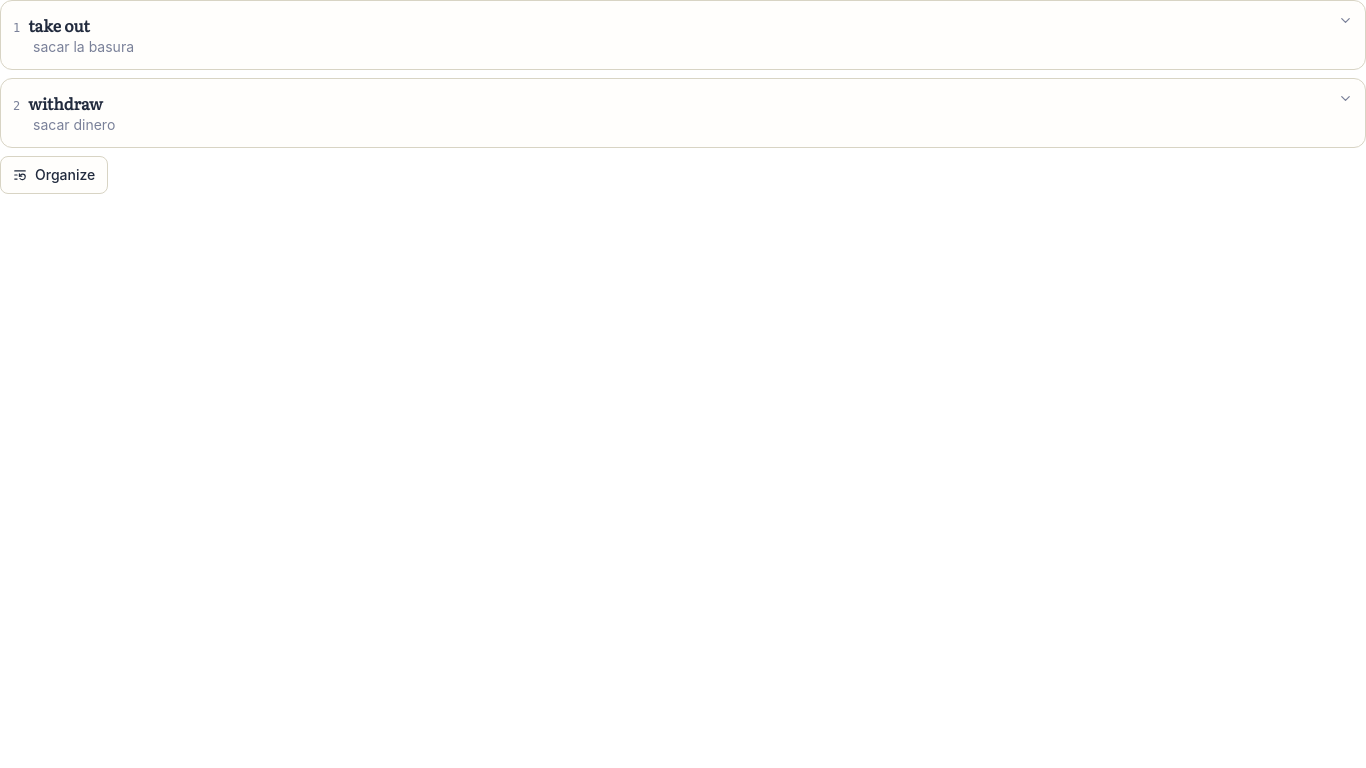
Test: structured meaning presentation and editing › cancels a meaning-example edit without writing
Click the 1st button named "Expand meaning".
click(1346, 20)  # box [1338,13,1353,28]
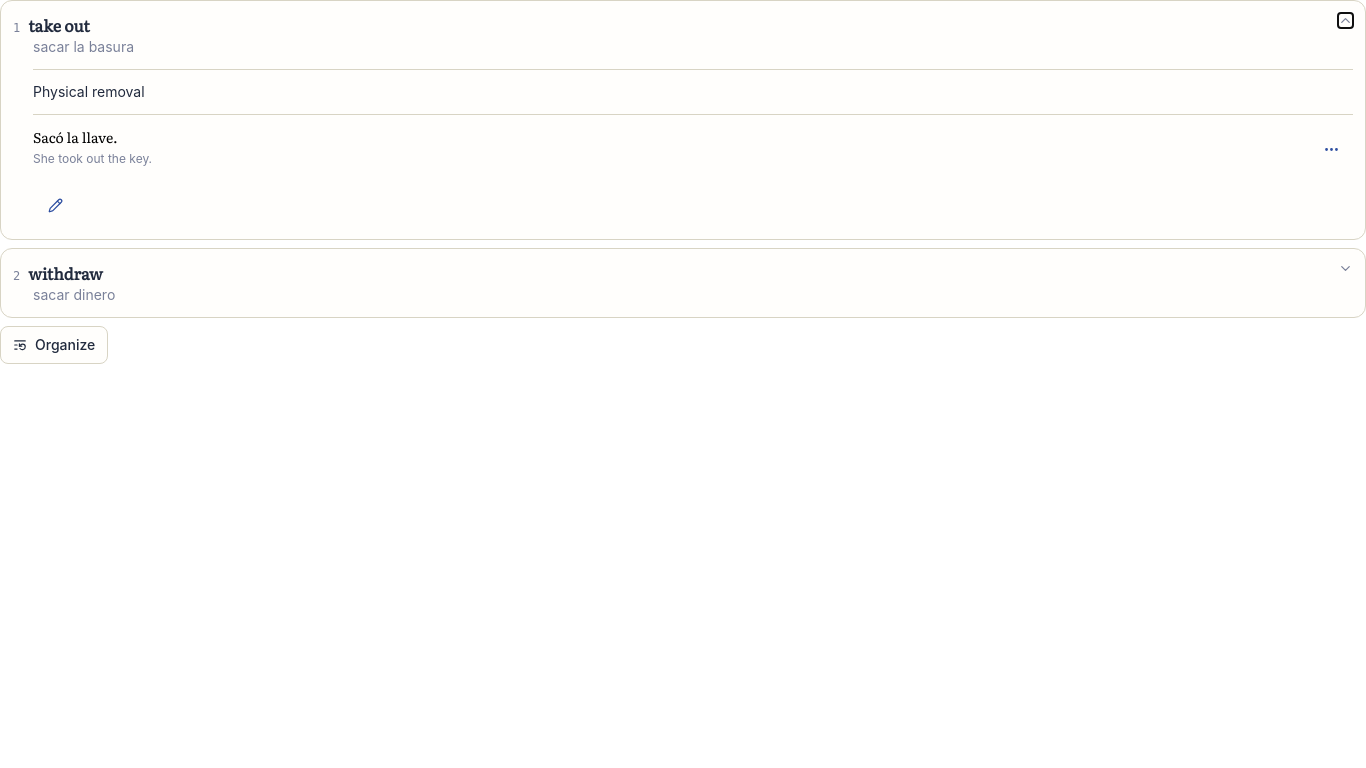
Click the button named "Actions for “Sacó la llave.”".
click(1331, 149)  # box [1309,127,1353,171]
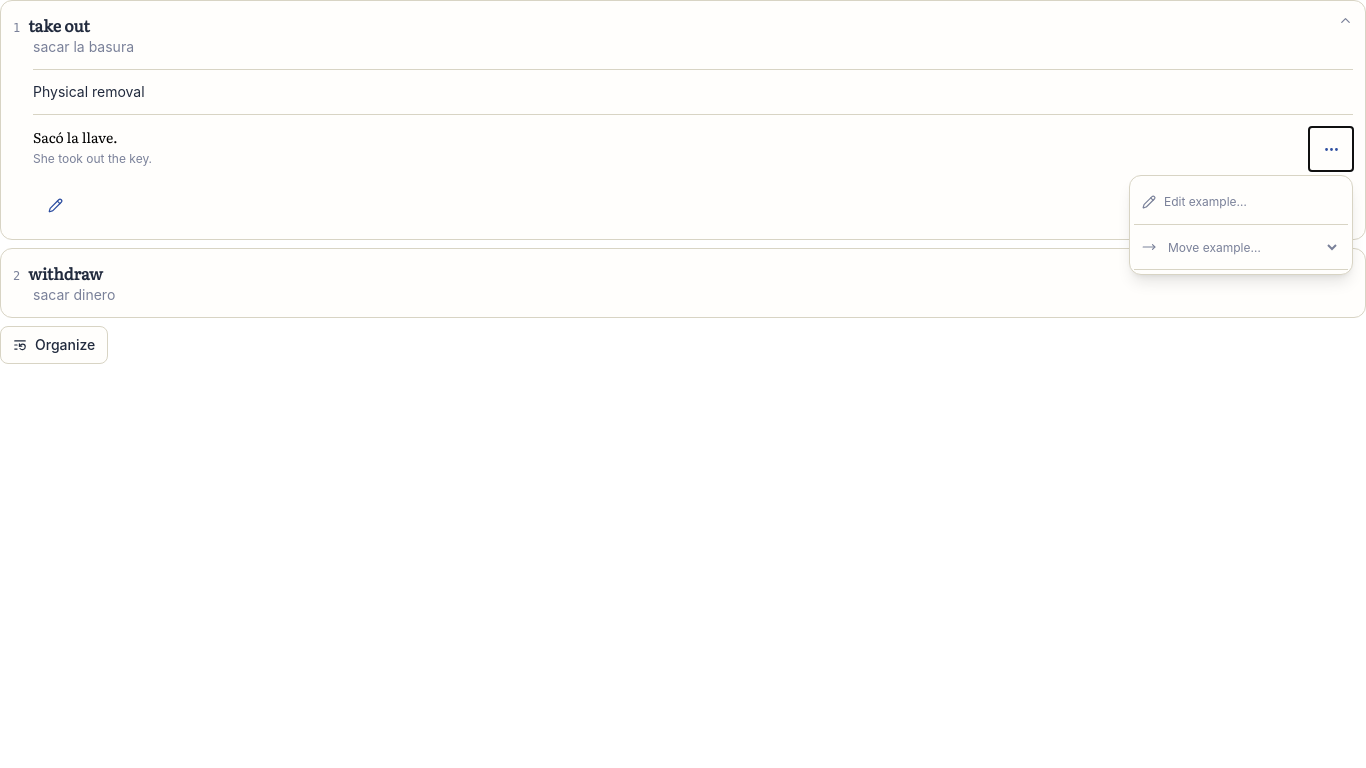
Click the button with aria-label "Edit example “Sacó la llave.”".
click(1241, 202)  # box [1134,180,1348,224]
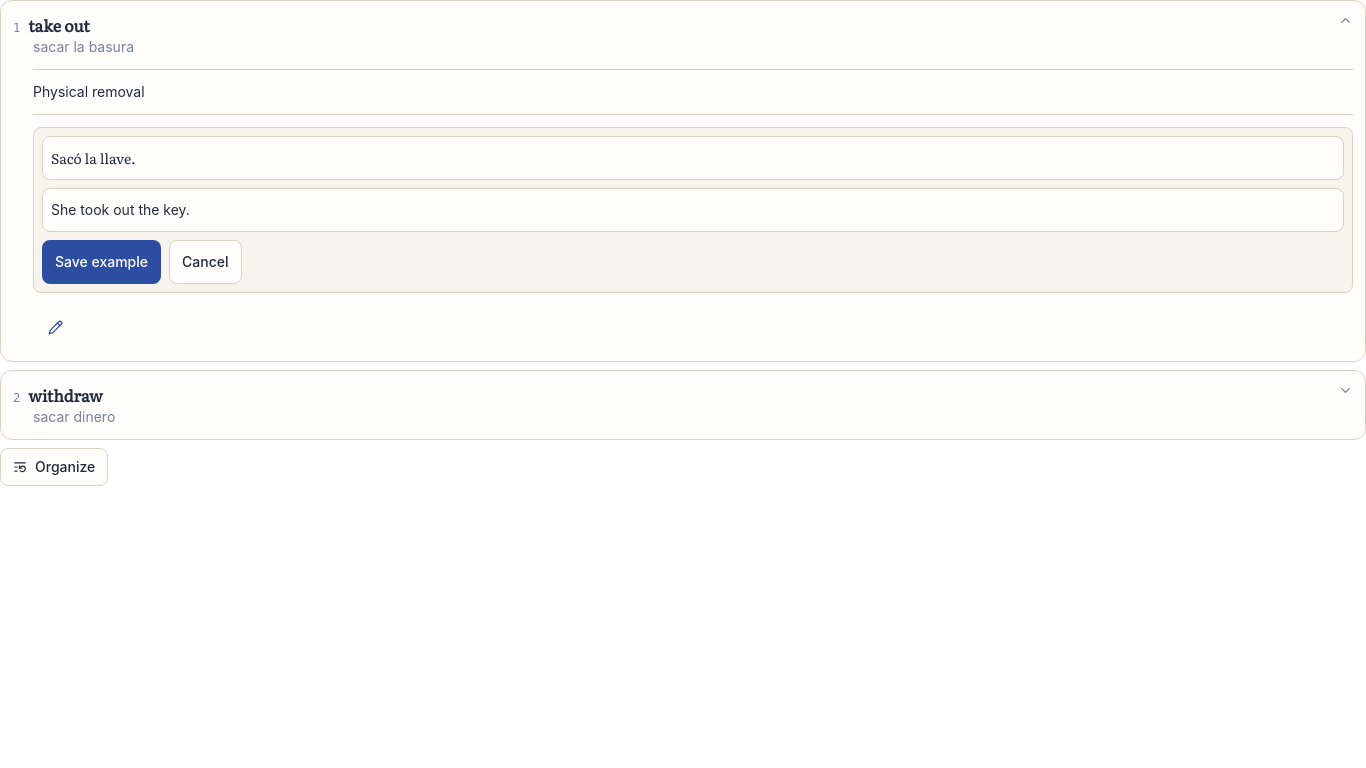
Type " Unsaved" into the field named "Example in Spanish".
click(693, 158); type(" Unsaved")  # box [42,136,1344,180]
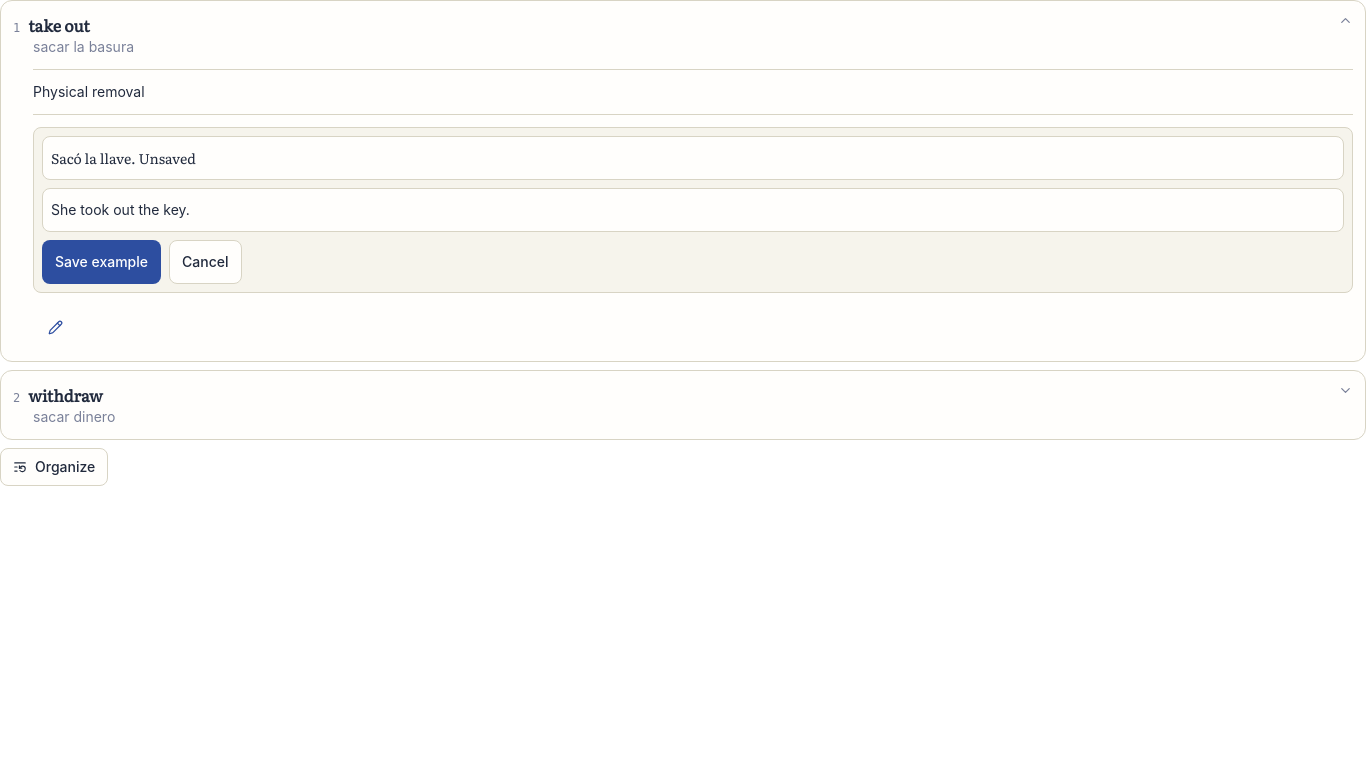
Click the button with aria-label "Cancel example edit".
click(205, 262)  # box [169,240,242,284]
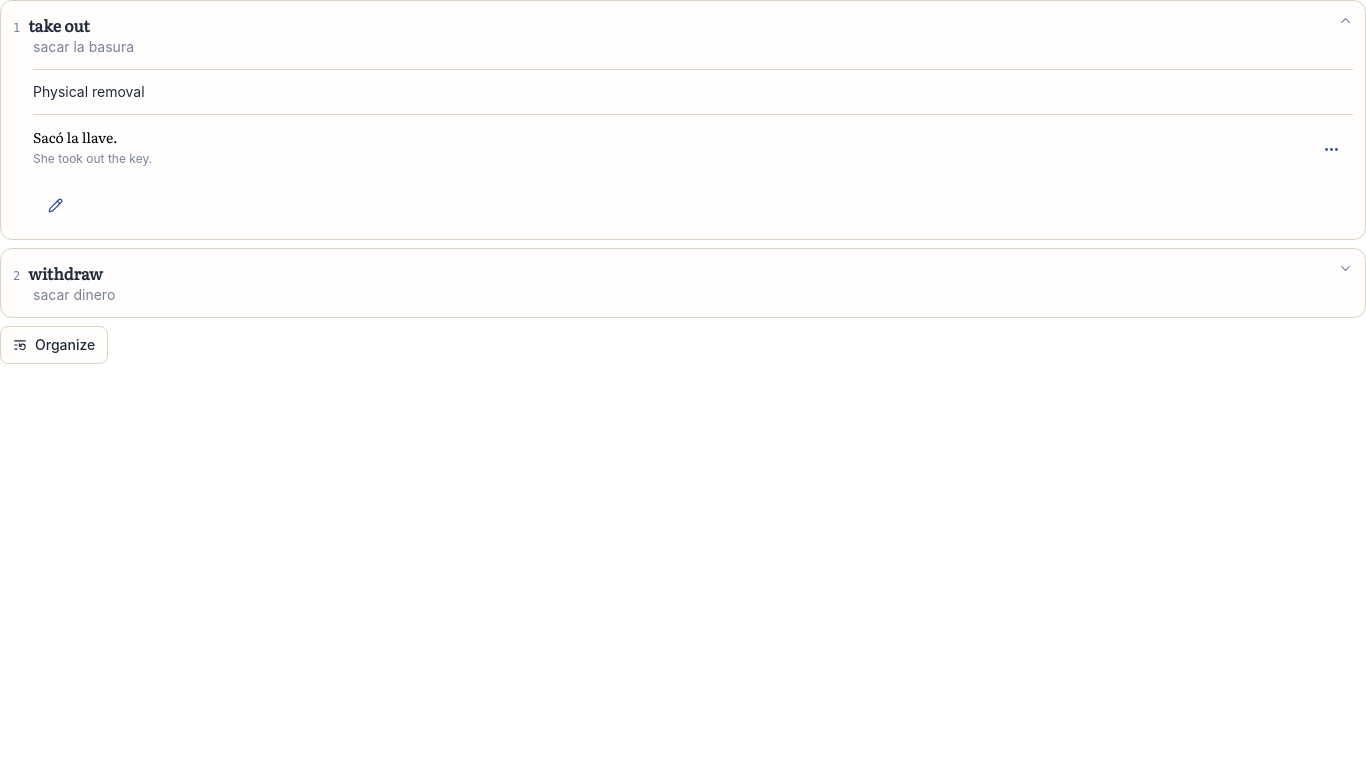
Check: the text "Sacó la llave." is shown, box [33,127,118,147]
